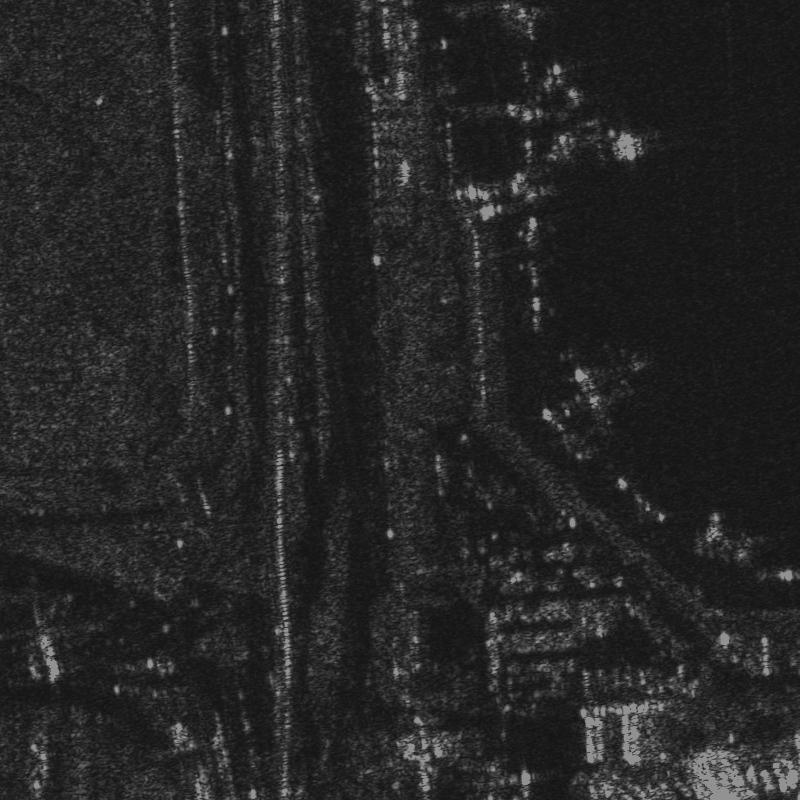A220: (551, 339, 655, 430)
A320/321: (524, 83, 652, 170)
